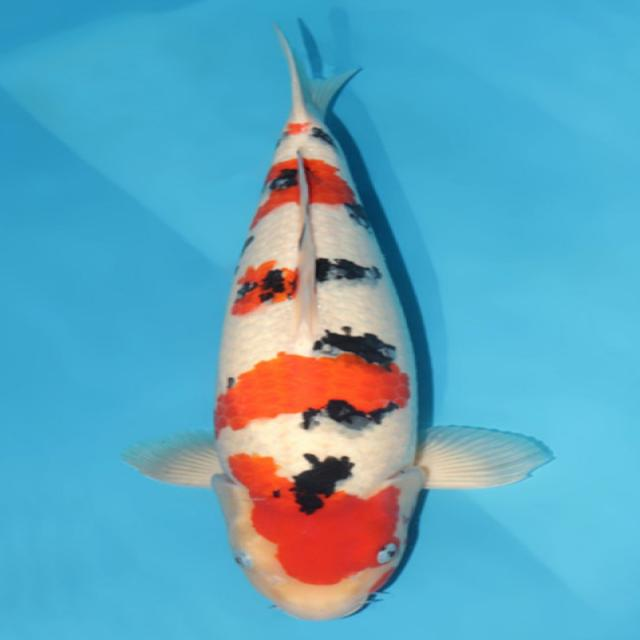Sanke: (122, 15, 556, 621)
